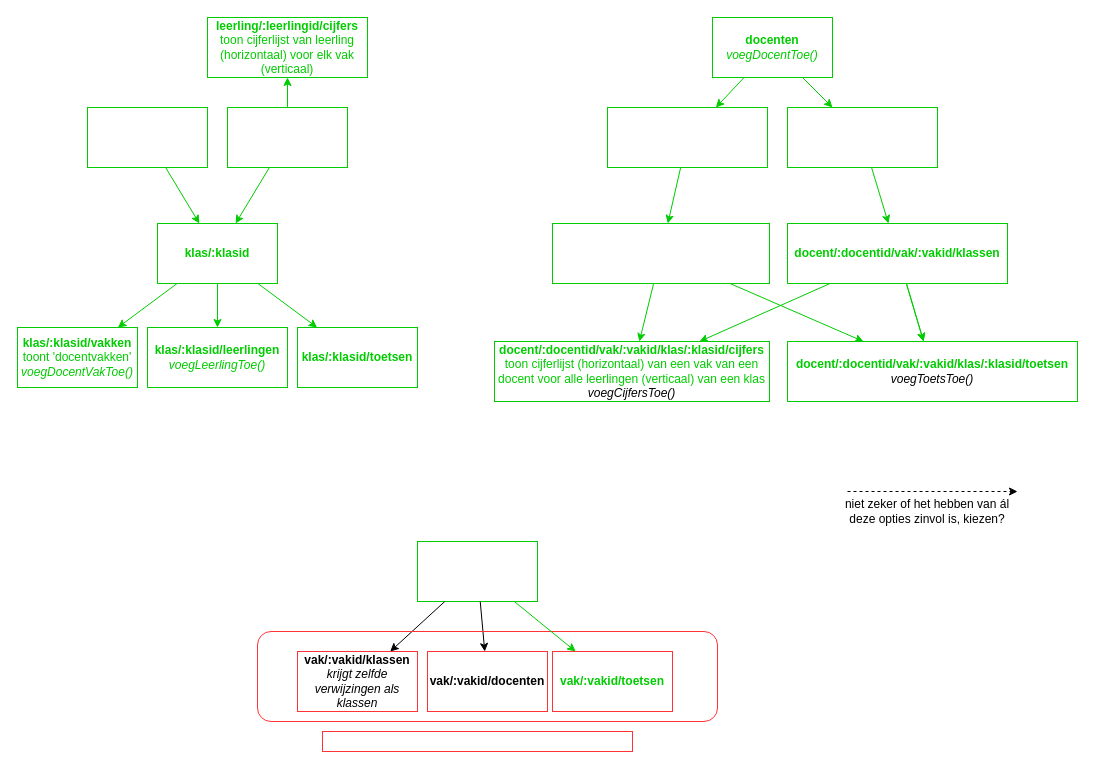
This 1095x769 diagram has some shape labels left out. Here are the shapes that lost their labels. From the top down, the centre of each, then its label:
At [147,137]: "klassen voegKlasToe()".
At [287,137]: "leerlingen voegLeerlingToe()".
At [687,137]: "docent/:docentid/klassen".
At [862,137]: "docent/:docentid/vakken voegVakToe()".
At [661,253]: "docent/:docentid/klas/:klasid/vakken".
At [477,571]: "vakken voegVakToe()".
At [477,741]: "deze sub-pagina's voegen functioneel gezien niets toe".
